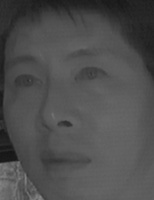eye: (71, 64, 109, 89), (8, 71, 43, 92)
mouth: (38, 144, 93, 177)
